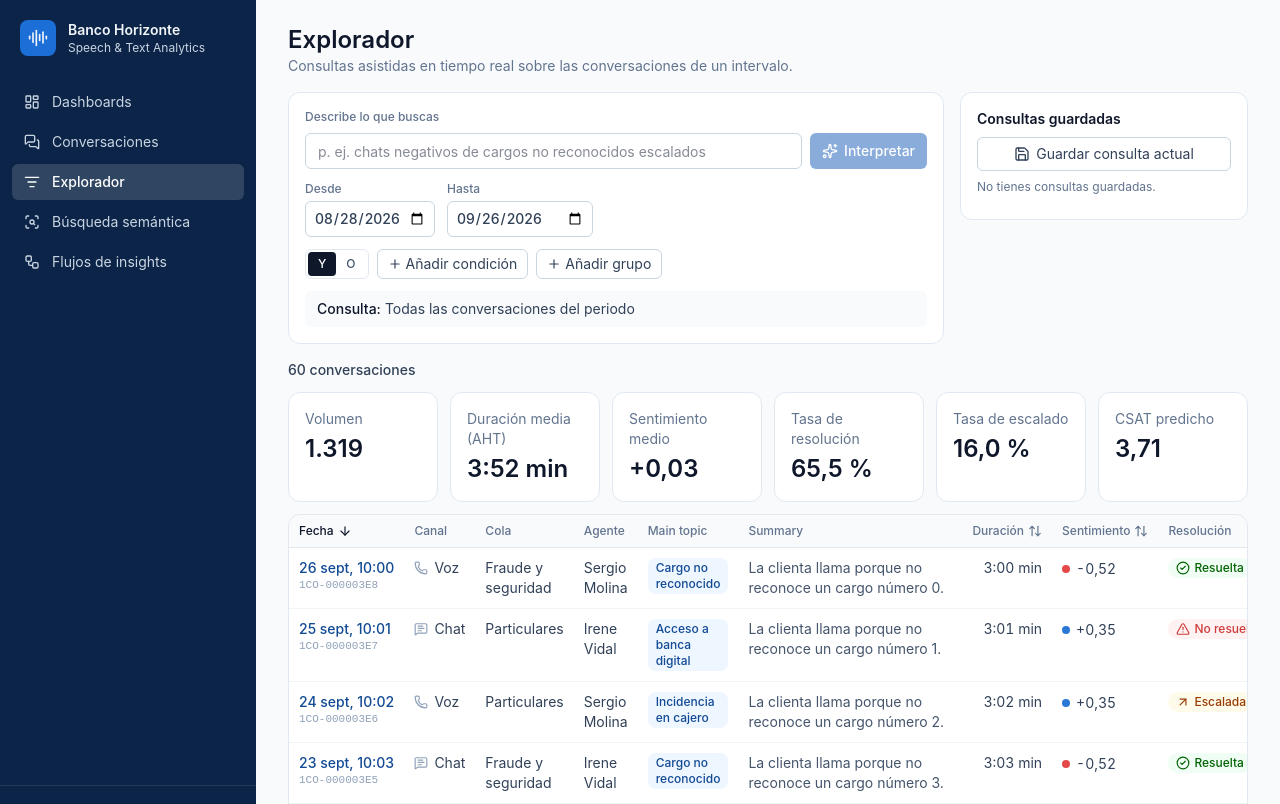
it: constructor de consultas › los valores categóricos muestran sugerencias con recuento
Expected: the heading "Explorador" is shown, left=288, top=25, right=414, bottom=54
Click the button "Añadir condición" at (452, 264), box left=377, top=249, right=528, bottom=279
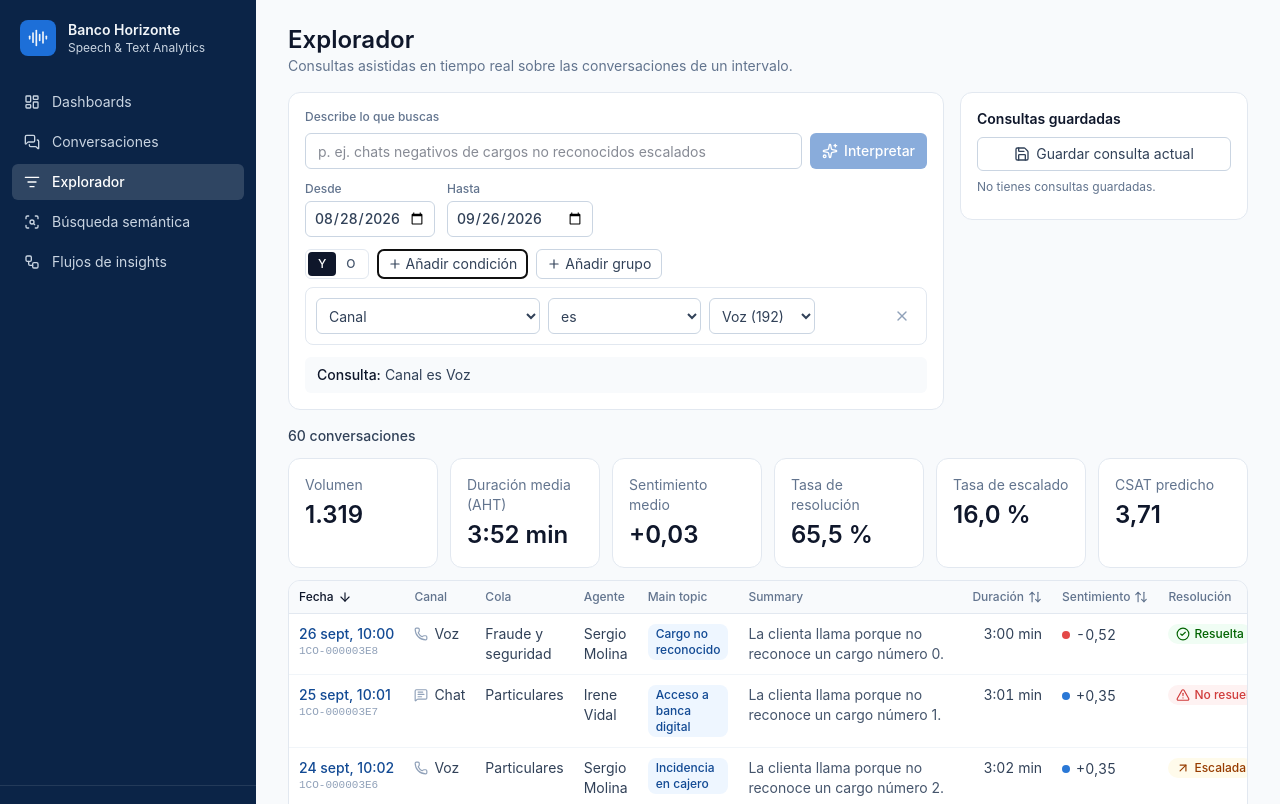
Select "Chat (127)" in the dropdown named "Valor" at (762, 316), box left=709, top=298, right=815, bottom=334
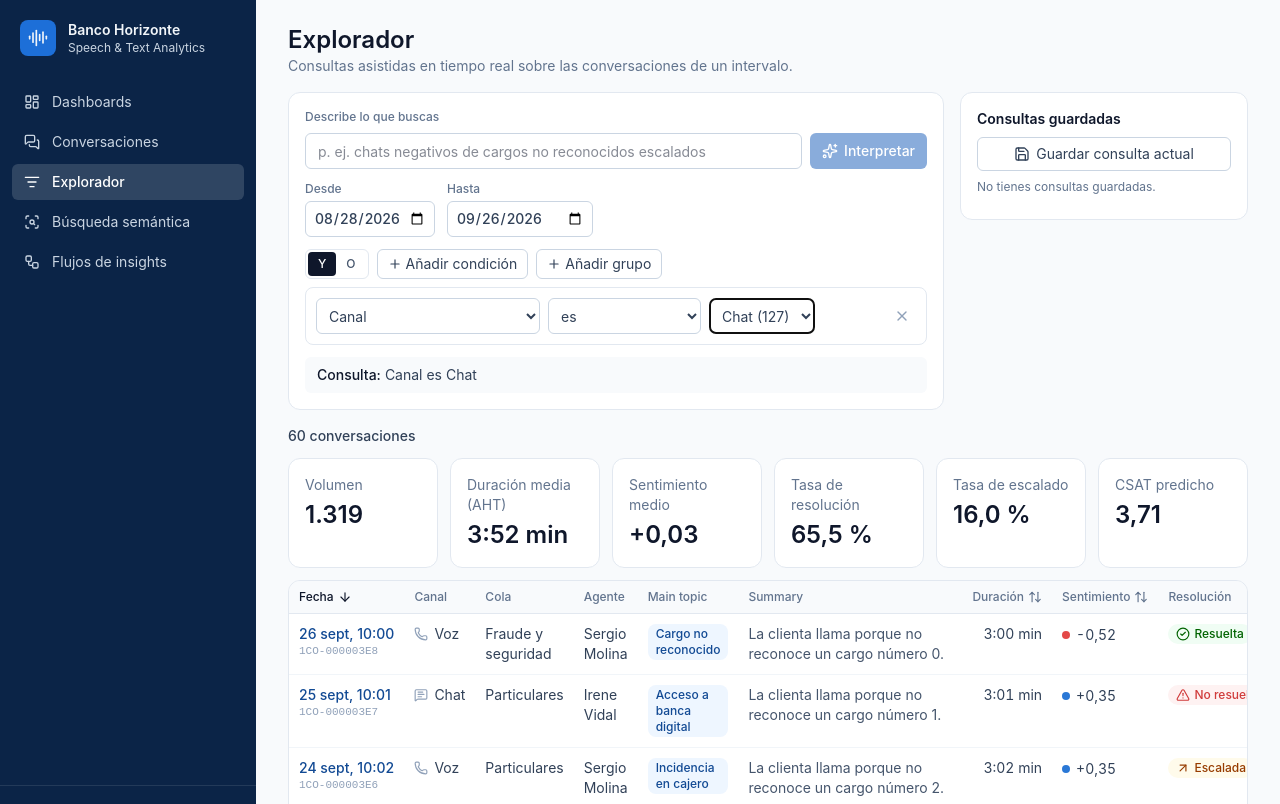
Result: the text "Canal es Chat" is shown at left=385, top=366, right=477, bottom=383
